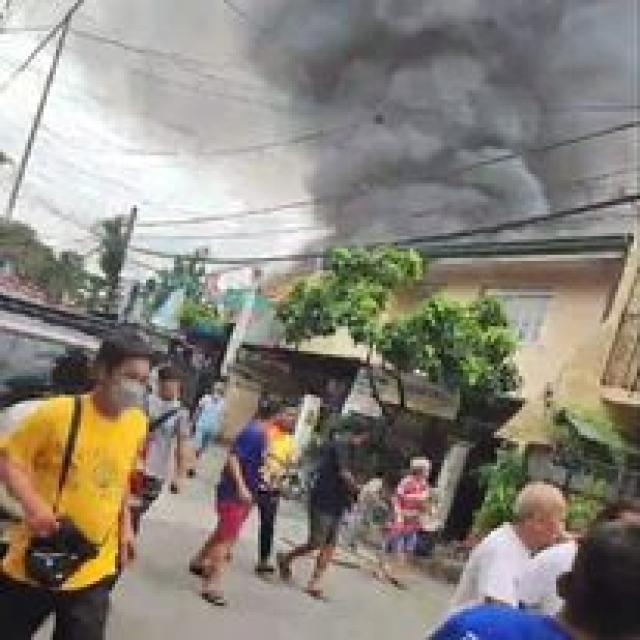Smoke: (102, 0, 640, 217)
